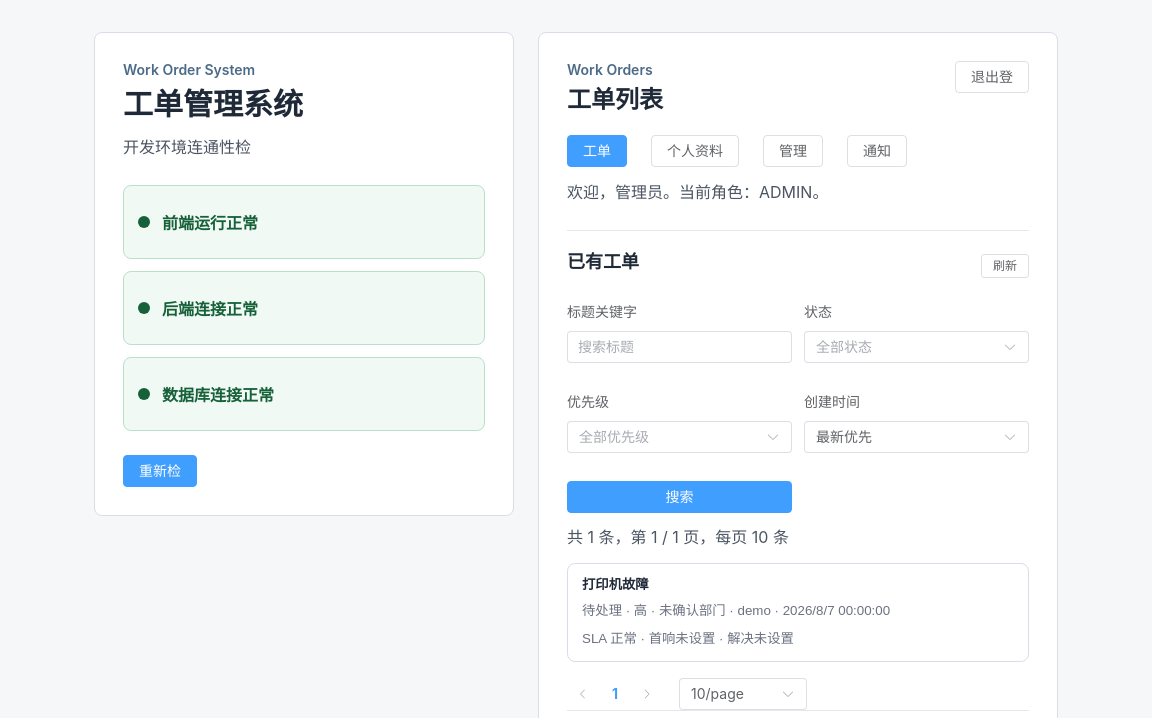
it: App › prevents disabling or downgrading the current admin in the UI
What coordinates should you click on to do the following:
click the button "管理"
I would click on:
 (793, 151)
Its box is [763,135,823,167].
(page scrolled)
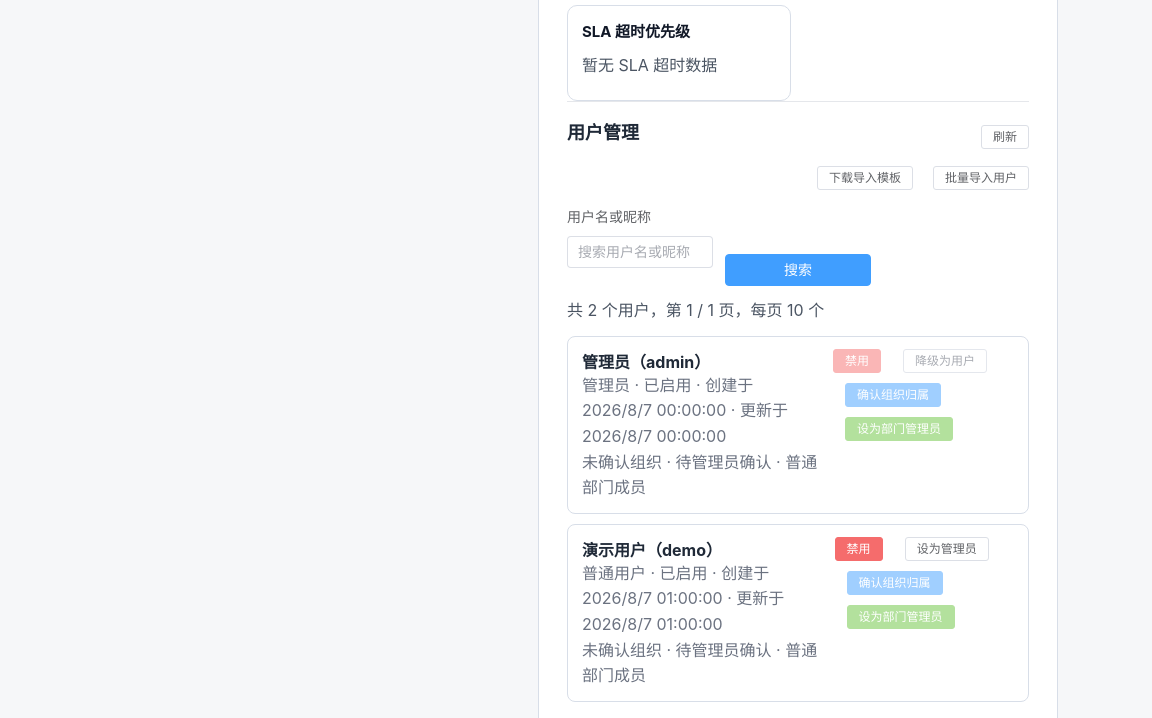
Check: the button "禁用" next to "管理员（admin）" is disabled, box [833,349,881,373]
Check: the button "降级为用户" is disabled, box [903,349,987,373]
